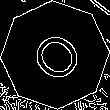O_SE: (22, 22, 88, 88)
